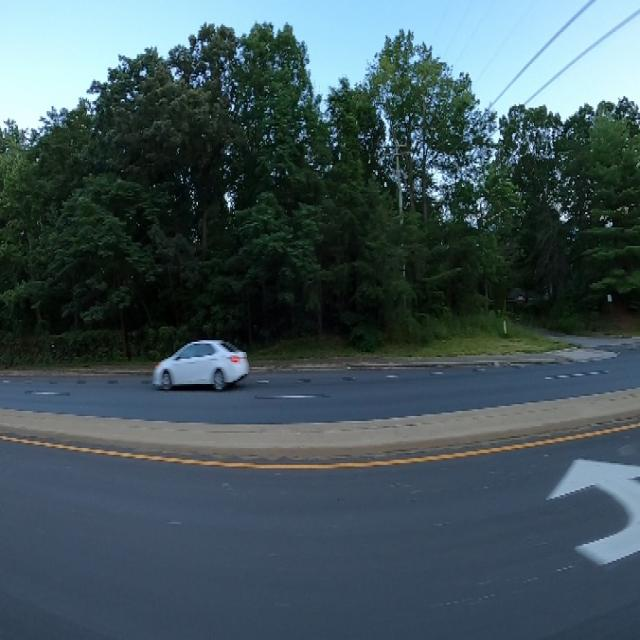cars: (147, 327, 249, 403)
